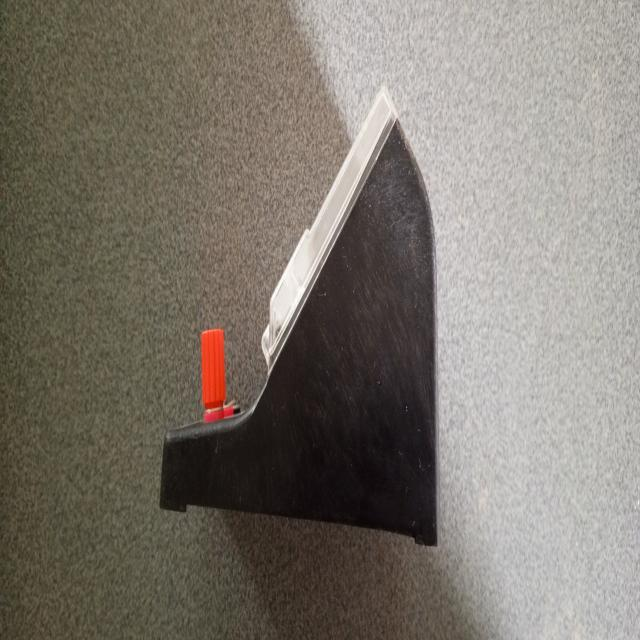Ammeter Analog: (153, 81, 446, 564)
